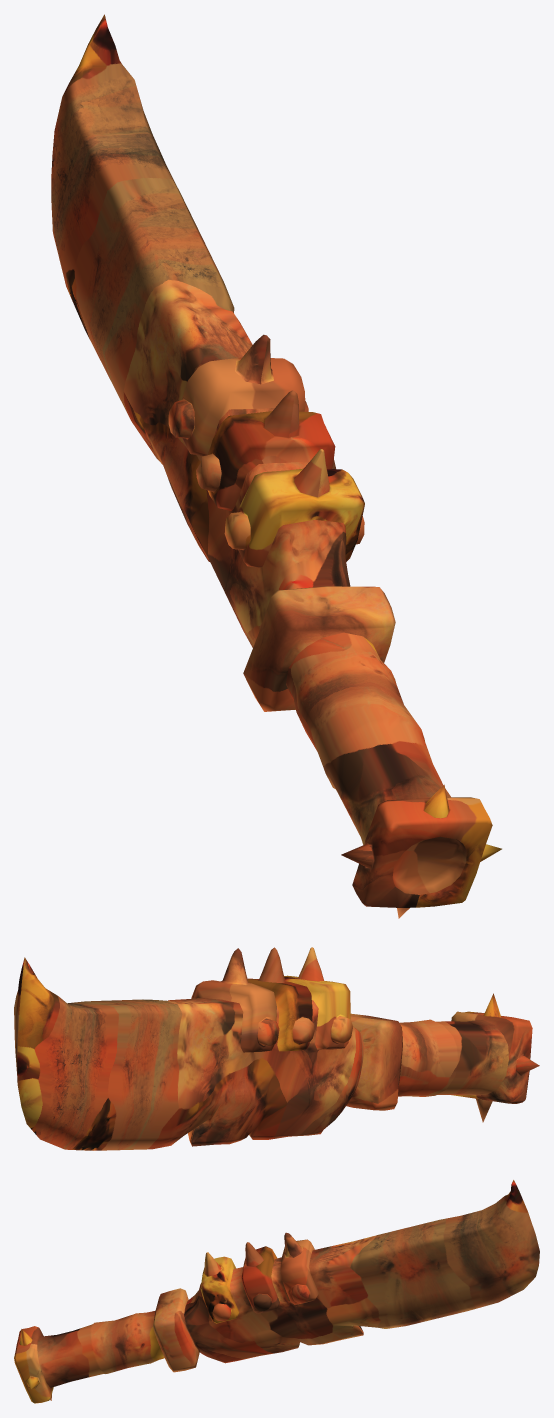
The picture shows the model from 3 angles, top to bottom: view 1: azimuth 30°, elevation 25°; view 2: azimuth 150°, elevation 25°; view 3: azimuth 270°, elevation 25°; orthographic projection. The views are drawn at different scales.
Parts seen in each view (by area): view 1: RetopoGroup1; view 2: RetopoGroup1; view 3: RetopoGroup1.
Boxes of the visible parts, x1,y1,x2,y2 form: RetopoGroup1: (51,14,501,918); RetopoGroup1: (14,947,539,1150); RetopoGroup1: (14,1180,539,1403).
Bounding box in the file's own units: 335 × 652 × 1183.
